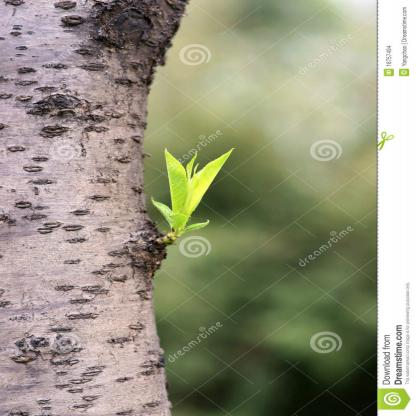peach leaf: (182, 149, 237, 221), (162, 147, 188, 220)
